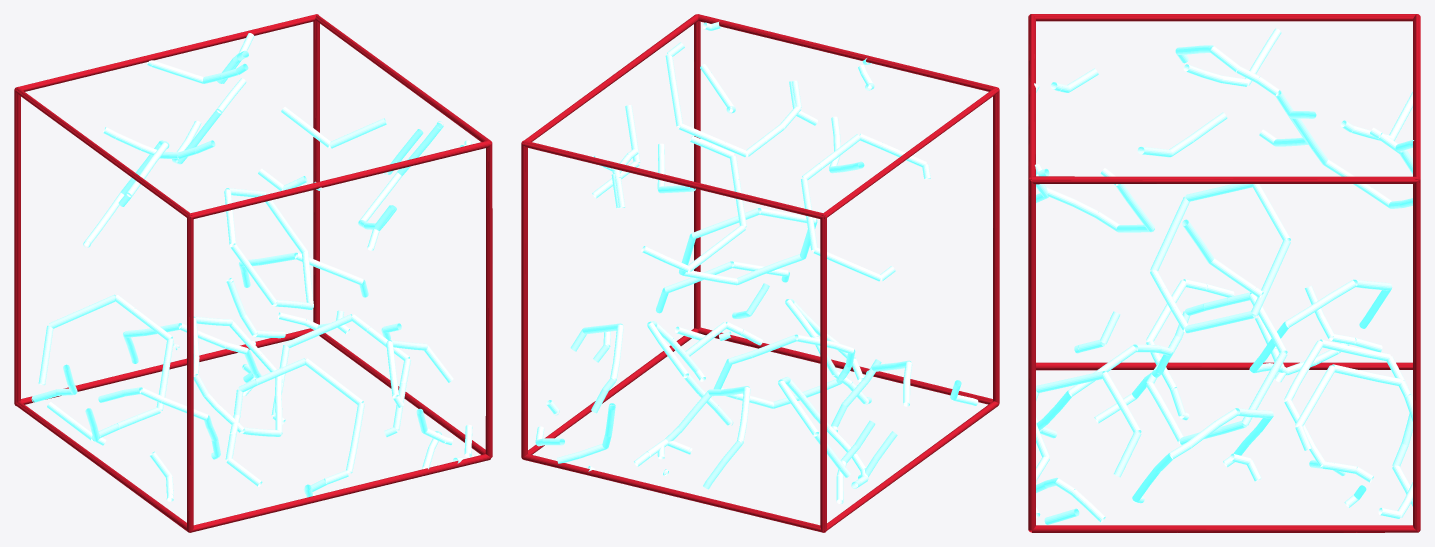
File: dislocation.glb
3 views of the same model, side by side, from view 1: azimuth 30°, elevation 25°; view 2: azimuth 150°, elevation 25°; view 3: azimuth 270°, elevation 25° (orthographic). The views are drawn at different scales.
Parts seen in each view (by area): view 1: Shape_IndexedLineSet.001, Shape_IndexedLineSet; view 2: Shape_IndexedLineSet.001, Shape_IndexedLineSet; view 3: Shape_IndexedLineSet.001, Shape_IndexedLineSet.
Part boxes in pixels (left/top/right/bottom): Shape_IndexedLineSet.001: left=31, top=33, right=472, bottom=501; Shape_IndexedLineSet: left=14, top=14, right=492, bottom=532; Shape_IndexedLineSet.001: left=535, top=21, right=978, bottom=503; Shape_IndexedLineSet: left=521, top=14, right=999, bottom=532; Shape_IndexedLineSet.001: left=1034, top=28, right=1413, bottom=524; Shape_IndexedLineSet: left=1028, top=14, right=1420, bottom=532.
Bounding box in the file's own units: 1.02 × 1.02 × 1.02.
